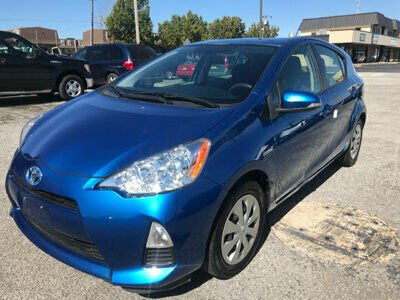Toyota Prius: (5, 38, 366, 294)
